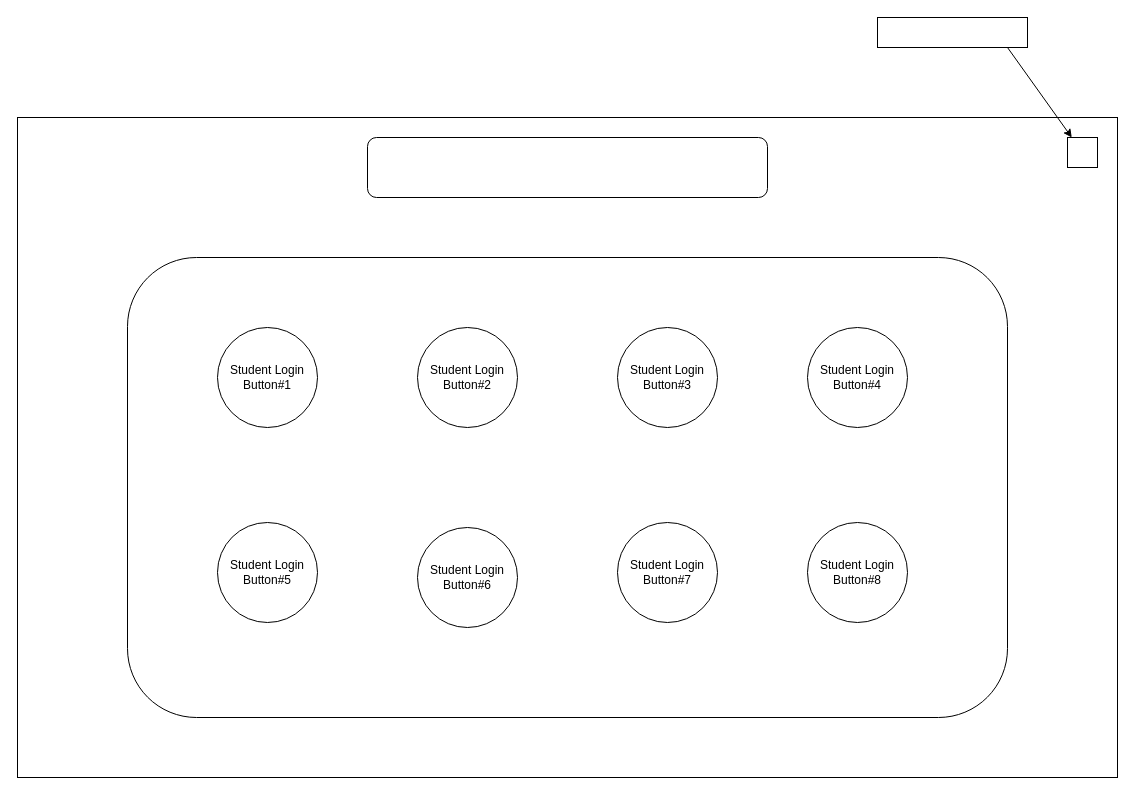
The diagram is 1135 pixels wide and 795 high, and some of its shapes have lost their labels. Here are the shapes that lost their labels. From the top down, the box of each, then its label:
(876, 16, 1028, 48): Staff login button
(366, 136, 768, 198): Class name header
